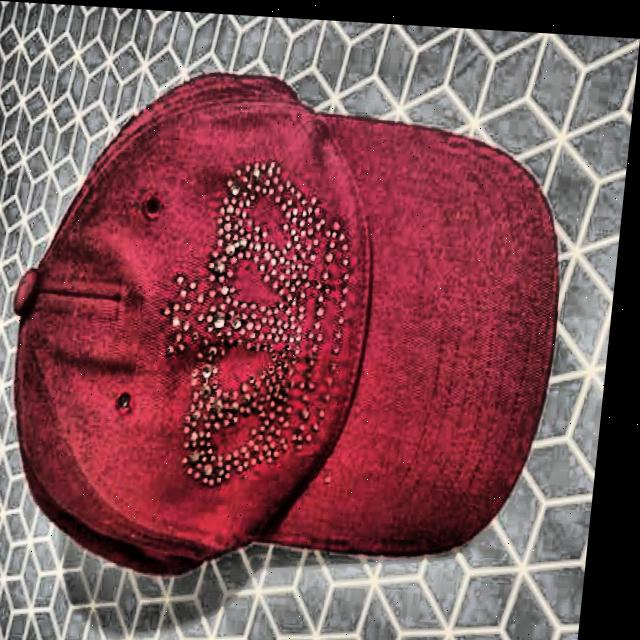clothes: (0, 55, 582, 596)
